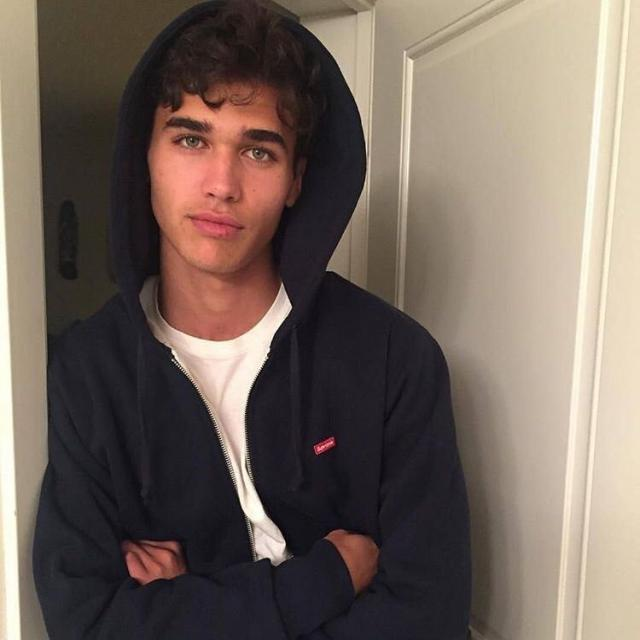earlobe: (286, 187, 297, 209)
eye: (241, 147, 272, 162), (175, 136, 208, 149)
nose: (200, 190, 241, 217)
wholeear: (286, 152, 306, 208)
